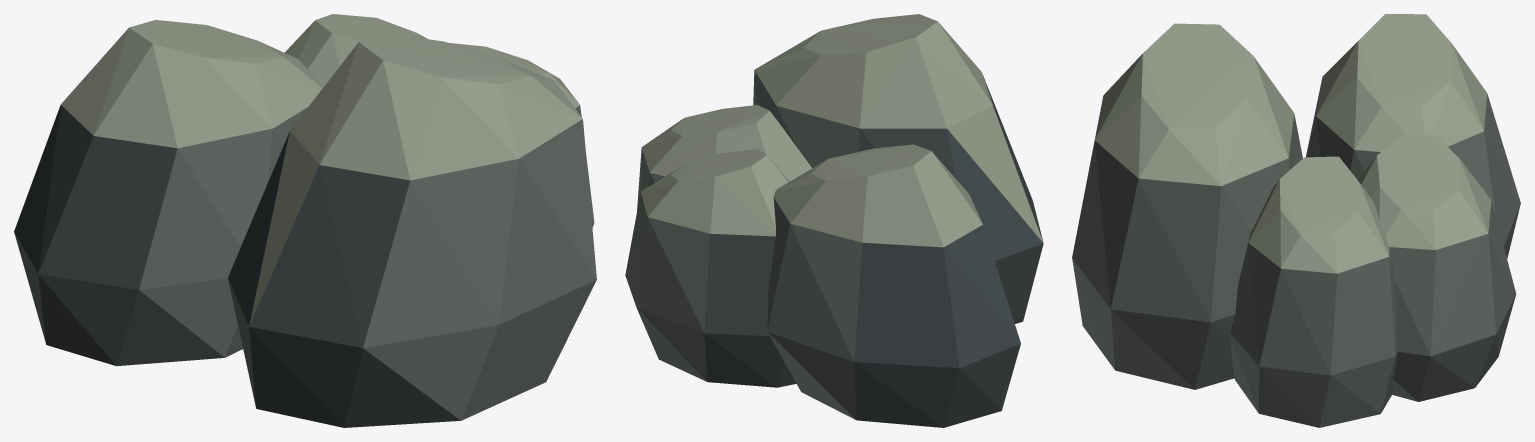
File: TW_ROCK_CLUSTER_SMALL_B_LOD0.glb
3 views of the same model, side by side, from view 1: azimuth 30°, elevation 25°; view 2: azimuth 150°, elevation 25°; view 3: azimuth 270°, elevation 25° (orthographic). The views are drawn at different scales.
Visible parts, largest first — view 1: TW_ROCK_CLUSTER_SMALL_B_LOD0; view 2: TW_ROCK_CLUSTER_SMALL_B_LOD0; view 3: TW_ROCK_CLUSTER_SMALL_B_LOD0.
Part boxes in pixels (x1=…): TW_ROCK_CLUSTER_SMALL_B_LOD0: x1=14, y1=14, x2=596, y2=427; TW_ROCK_CLUSTER_SMALL_B_LOD0: x1=625, y1=14, x2=1043, y2=427; TW_ROCK_CLUSTER_SMALL_B_LOD0: x1=1072, y1=14, x2=1520, y2=427.
Bounding box in the file's own units: 1.4 × 0.8749 × 1.22.
1 material, 1 textured.
